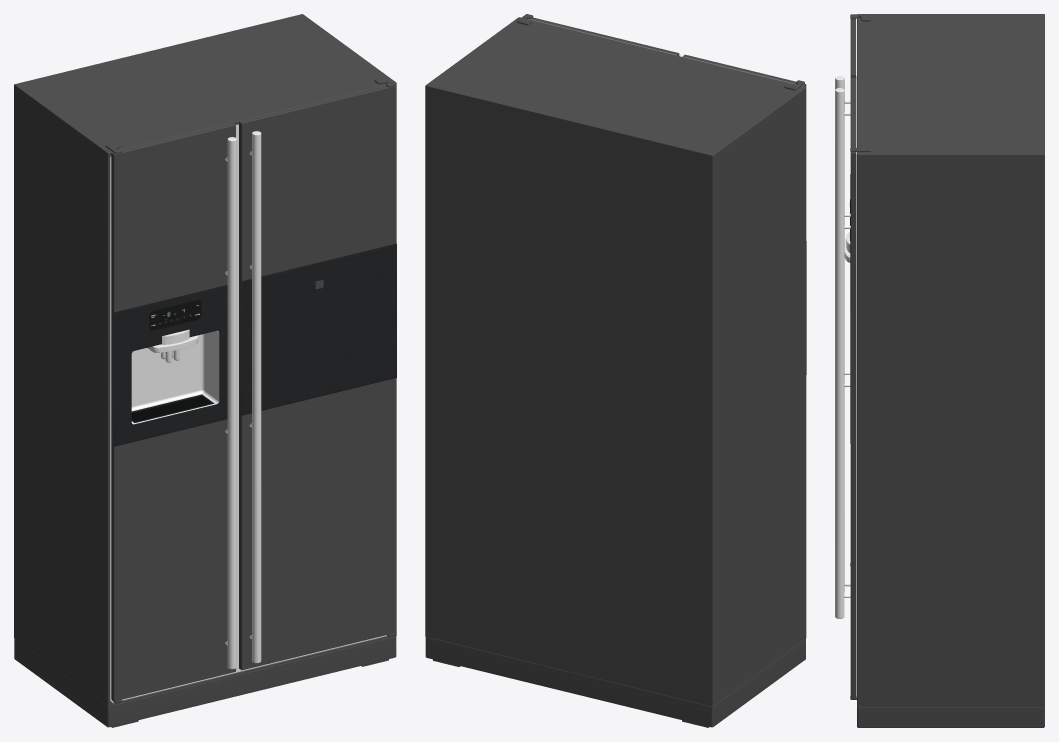
Rendered from Refrigerator.fbx.
The picture shows the model from 3 angles, left to right: view 1: azimuth 30°, elevation 25°; view 2: azimuth 150°, elevation 25°; view 3: azimuth 270°, elevation 25°; orthographic projection.
Visible parts, largest first — view 1: Refrigerator_Basis, Refrigerator_Dor_R, Refrigerator_Dor_L; view 2: Refrigerator_Basis; view 3: Refrigerator_Basis, Refrigerator_Dor_R, Refrigerator_Dor_L.
Part boxes in pixels (x1=…): Refrigerator_Basis: x1=14, y1=14, x2=396, y2=727; Refrigerator_Dor_R: x1=239, y1=85, x2=396, y2=670; Refrigerator_Dor_L: x1=111, y1=123, x2=236, y2=701; Refrigerator_Basis: x1=425, y1=14, x2=806, y2=727; Refrigerator_Basis: x1=850, y1=14, x2=1044, y2=727; Refrigerator_Dor_R: x1=835, y1=77, x2=856, y2=698; Refrigerator_Dor_L: x1=835, y1=18, x2=856, y2=586.
Size of the model in its own units: 94.27 by 181 by 59.37.
Materials: 2 (1 with a texture image).
